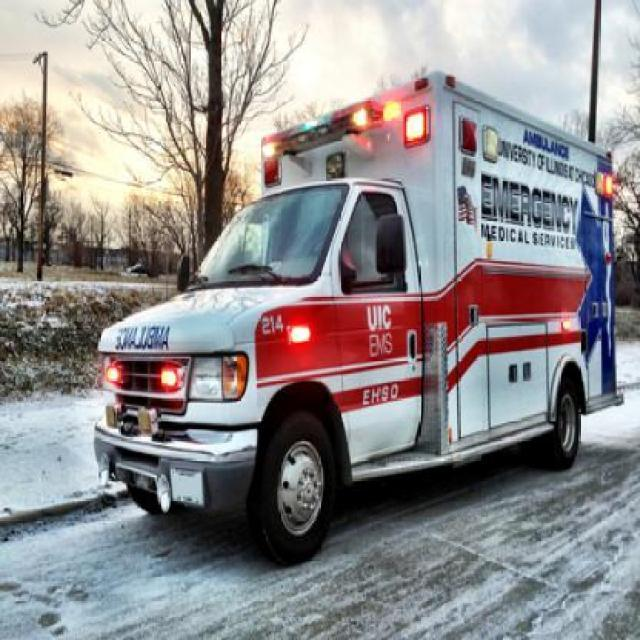Ambulance: (86, 68, 628, 568), (0, 335, 638, 638)
